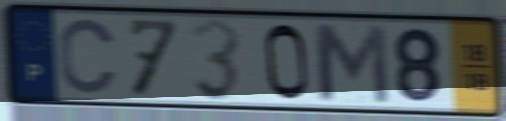0: (262, 20, 310, 102)
3: (189, 16, 249, 104)
7: (125, 16, 180, 99)
8: (391, 25, 444, 106)
C: (57, 16, 120, 97)
M: (310, 20, 393, 106)
